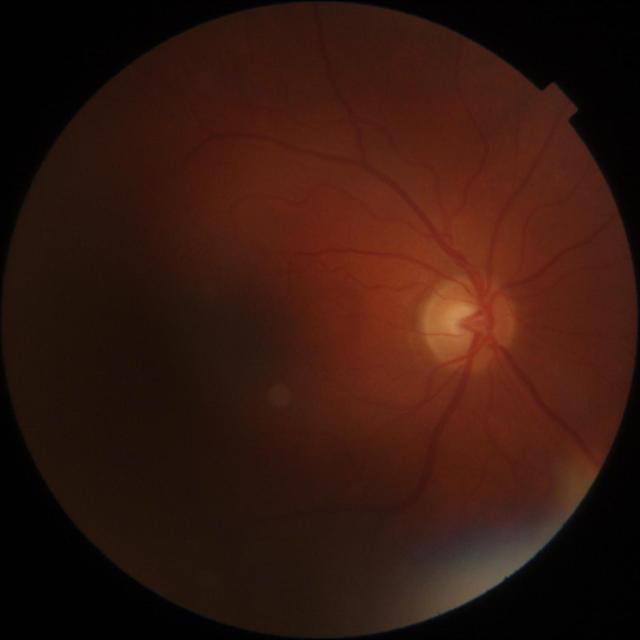OC: (446, 303, 486, 342)
OD: (424, 277, 517, 373)
